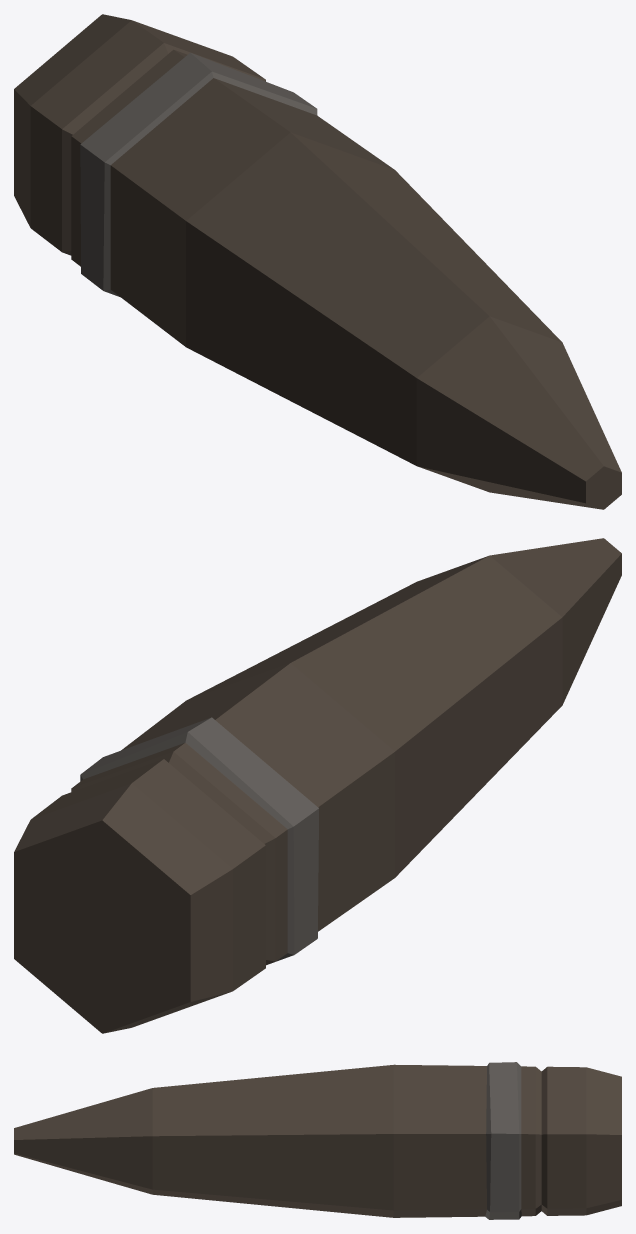
The model's file is SM_Prop_IED_02.glb.
The picture shows the model from 3 angles, top to bottom: view 1: azimuth 30°, elevation 25°; view 2: azimuth 150°, elevation 25°; view 3: azimuth 270°, elevation 25°; orthographic projection. The views are drawn at different scales.
Visible parts, largest first — view 1: SM_Prop_IED_02; view 2: SM_Prop_IED_02; view 3: SM_Prop_IED_02.
Part boxes in pixels (x1,y1,x2,y2): SM_Prop_IED_02: [14, 14, 621, 509]; SM_Prop_IED_02: [14, 538, 621, 1033]; SM_Prop_IED_02: [14, 1062, 621, 1219].
Bounding box in the file's own units: 0.1483 × 0.1725 × 0.601.
Materials: 1 (1 with a texture image).
